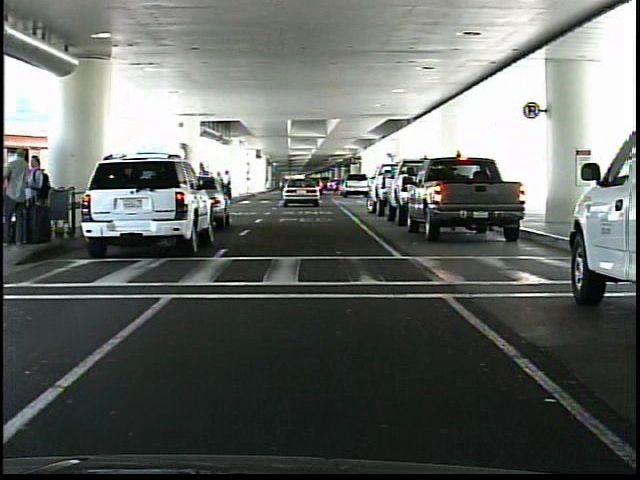person: (4, 148, 37, 246), (23, 157, 53, 247)
